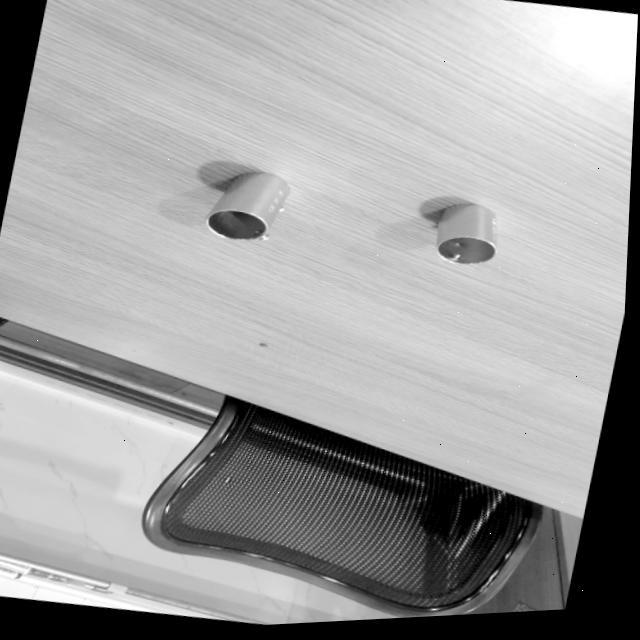Co_Lon: (201, 155, 295, 256)
Co_Nho: (435, 201, 498, 265)
